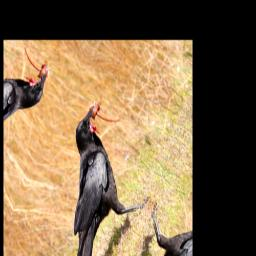Crow: (21, 86, 173, 256)
